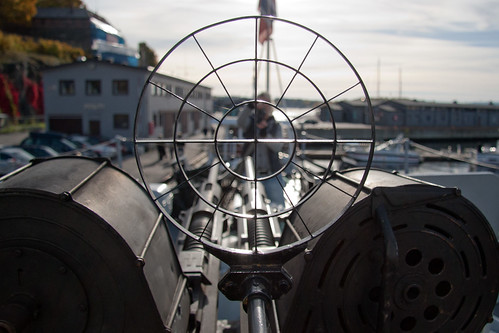building: (40, 65, 231, 145), (316, 91, 497, 142)
sky: (139, 1, 488, 89)
weapon: (1, 157, 446, 333)
